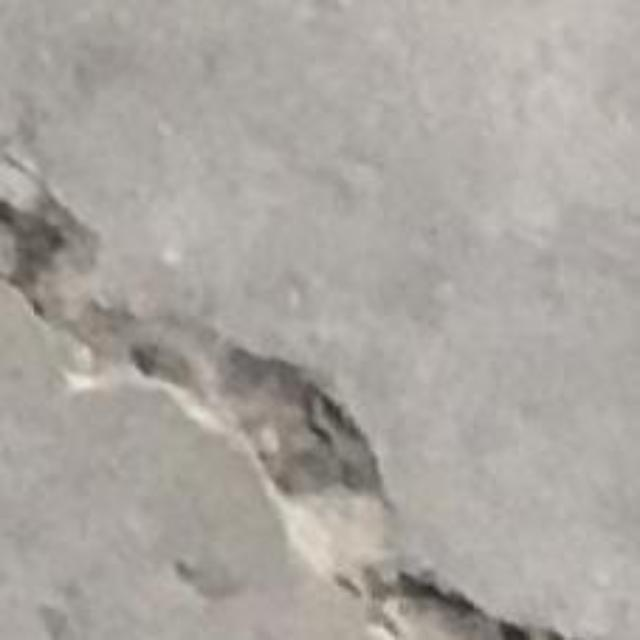crack: (0, 156, 561, 639)
